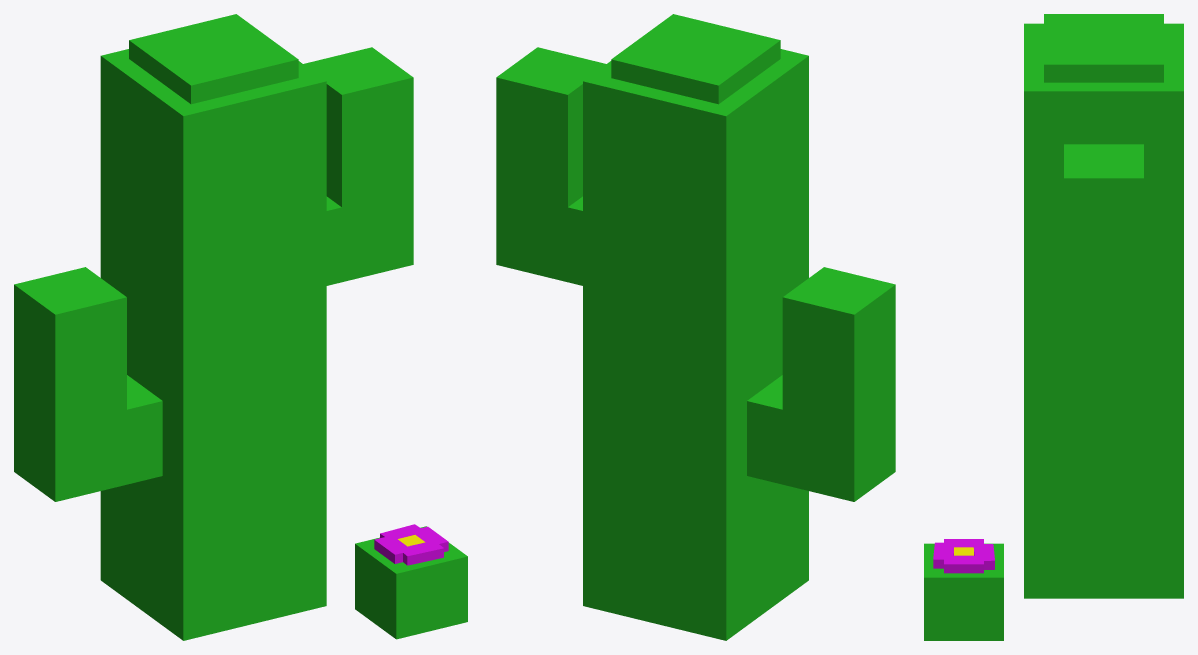
File: cactus2.gltf
3 views of the same model, side by side, from view 1: azimuth 30°, elevation 25°; view 2: azimuth 150°, elevation 25°; view 3: azimuth 270°, elevation 25° (orthographic). The views are drawn at different scales.
Visible parts, largest first — view 1: cube (×8); view 2: cube (×6); view 3: cube (×8).
Boxes of the visible parts, left/top/right/bottom form: cube (×8): left=14, top=14, right=467, bottom=640; cube (×6): left=496, top=14, right=895, bottom=640; cube (×8): left=924, top=14, right=1183, bottom=640.
Size of the model in its own units: 2.5 by 3.63 by 1.63.
3 materials, 3 textured.
